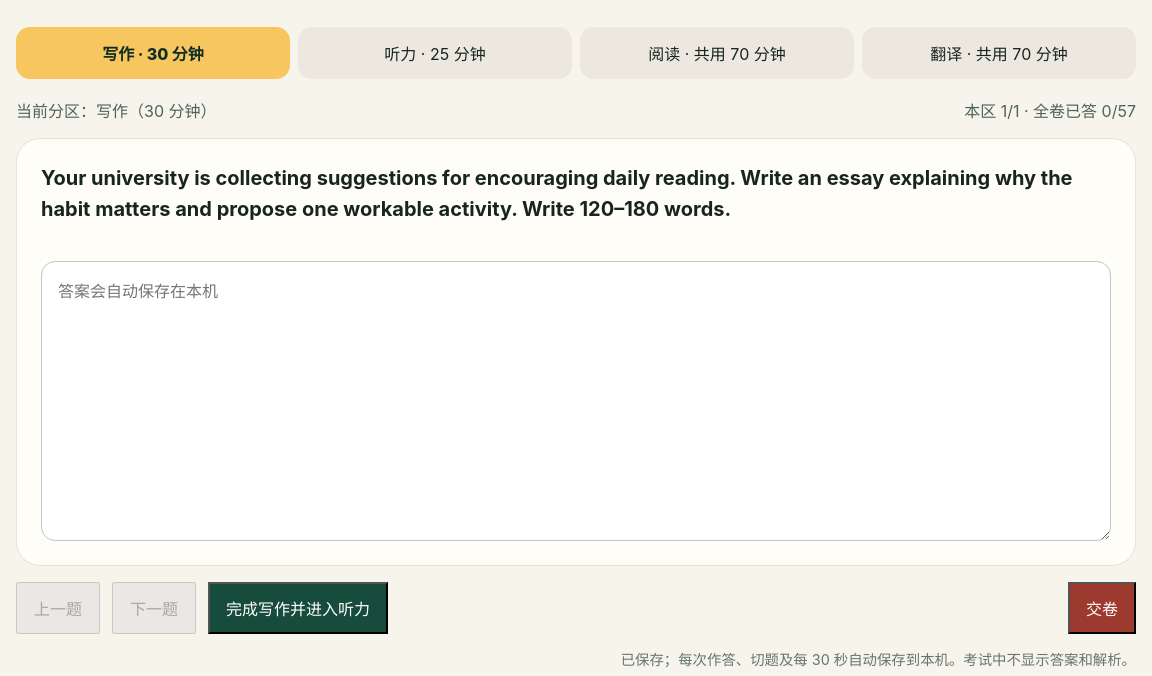
Scenario: ExamSession › lets the learner finish a section early and continue to the next section
(page scrolled)
Step 1. Click the button "完成写作并进入听力" → click(298, 608), box [208,582,388,634]
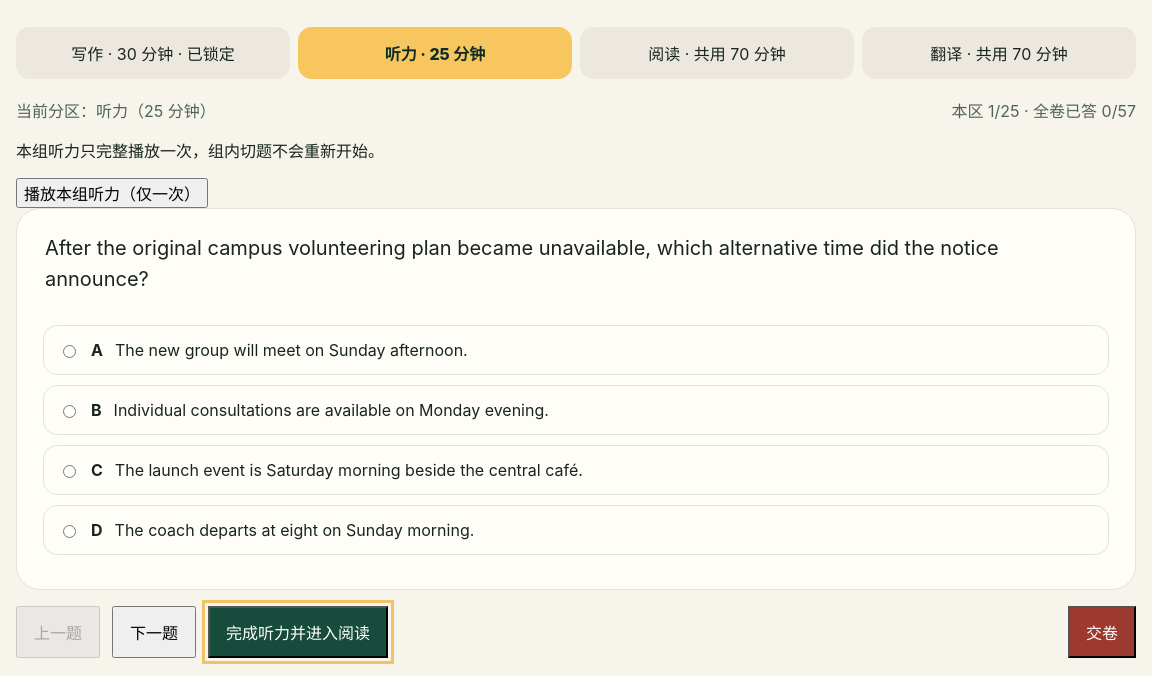
Expected: the text "当前分区：听力（25 分钟）" is shown, [16,98,216,122]
